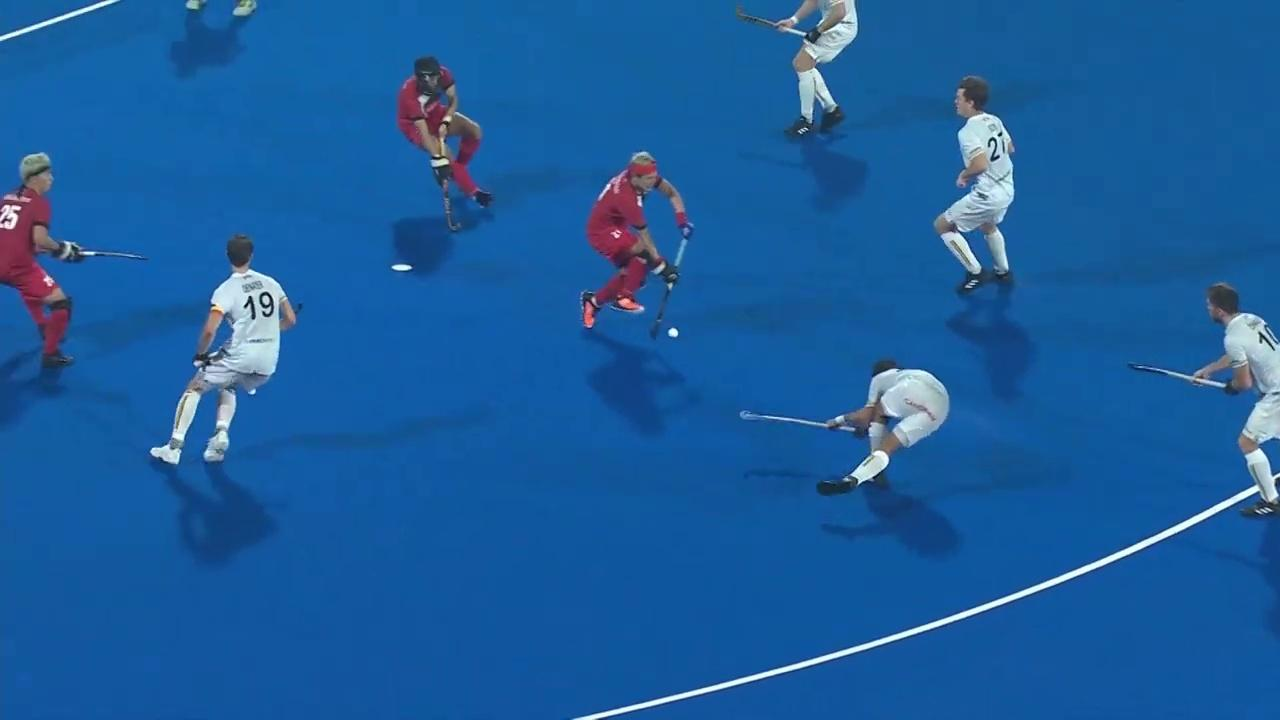ball: (660, 321, 688, 348)
